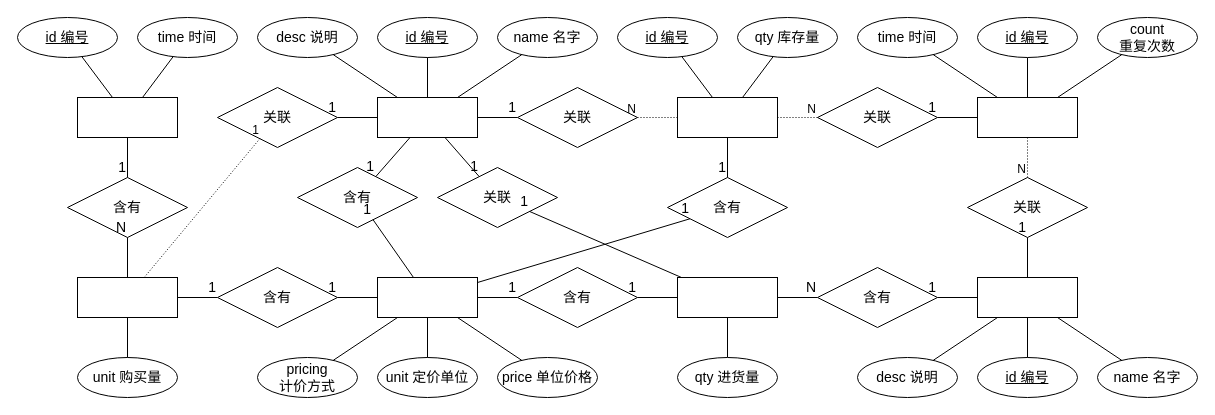
The diagram is 1215 pixels wide and 415 high, and some of its shapes have lost their labels. The centre of each missing label's shape, as x and y in pixels:
"Asset 库存" belongs at pixel 727 117.
"Price 价格" belongs at pixel 427 297.
"Product 产品" belongs at pixel 427 117.
"Purchase 订单" belongs at pixel 127 117.
"PurchaseItem 订单项" belongs at pixel 127 297.
"Restock 进货计划" belongs at pixel 1027 297.
"RestockHist 进货历史记录" belongs at pixel 1027 117.
"RestockItem 进货计划项" belongs at pixel 727 297.
